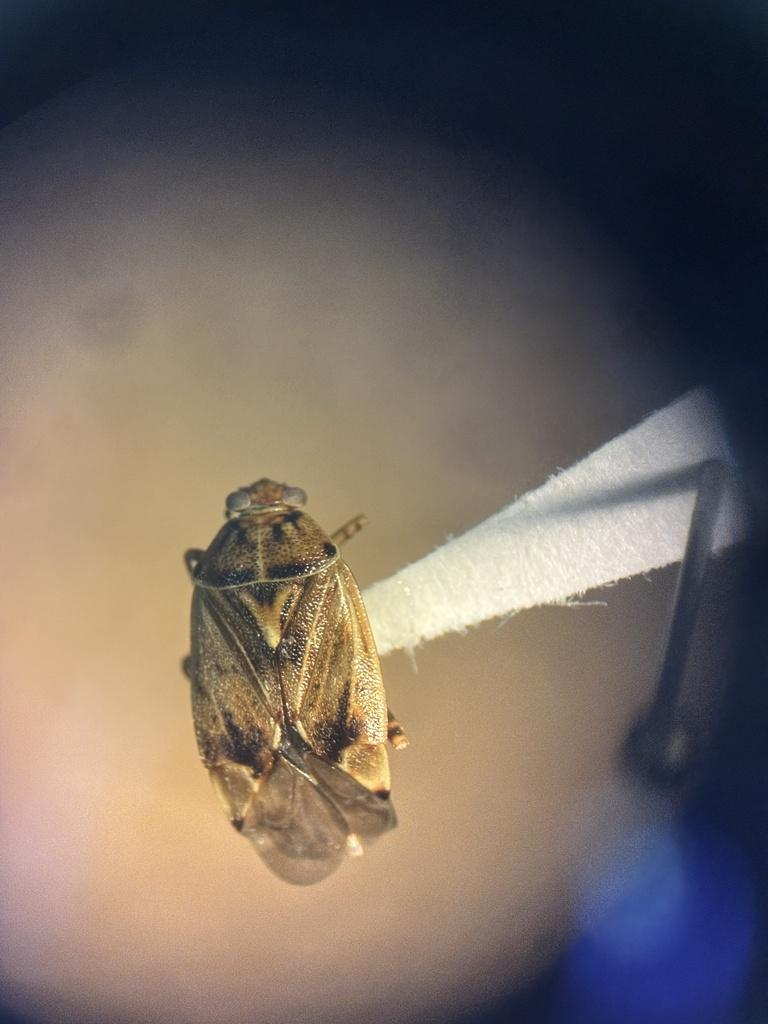plant_bugs: (111, 377, 489, 957)
